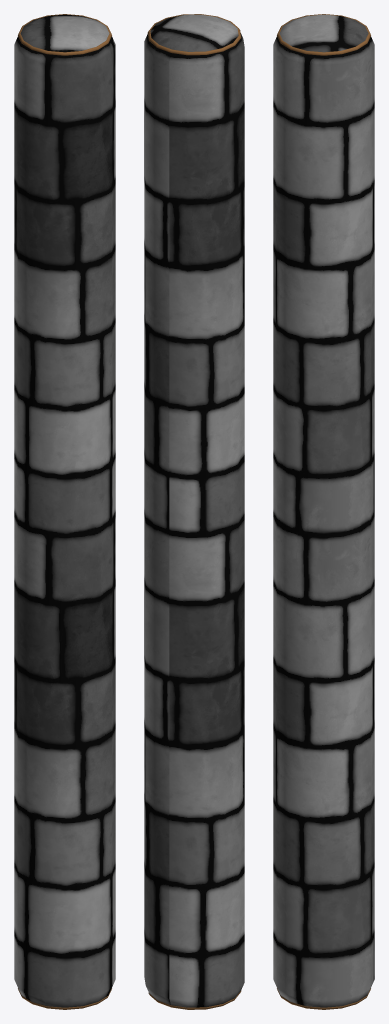
File: SM_FoamPole_2M.fbx
3 views of the same model, side by side, from view 1: azimuth 90°, elevation 25°; view 2: azimuth 150°, elevation 25°; view 3: azimuth 270°, elevation 25° (orthographic).
Parts seen in each view (by area): view 1: SM_SoftFoam_FramePipe_2M; view 2: SM_SoftFoam_FramePipe_2M; view 3: SM_SoftFoam_FramePipe_2M.
Boxes of the visible parts, x1,y1,x2,y2 form: SM_SoftFoam_FramePipe_2M: (14,14,115,1009); SM_SoftFoam_FramePipe_2M: (144,14,244,1009); SM_SoftFoam_FramePipe_2M: (273,14,374,1009).
Bounding box in the file's own units: 17.1 × 181 × 17.1.
